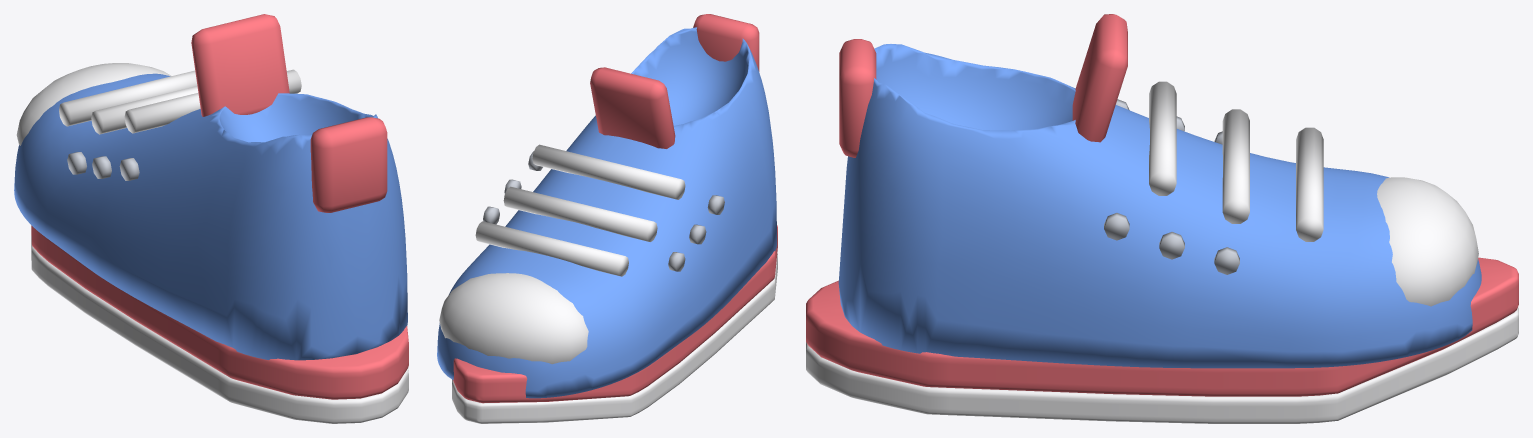
The model's file is shoe_canvas.fbx.
The picture shows the model from 3 angles, left to right: view 1: azimuth 30°, elevation 25°; view 2: azimuth 150°, elevation 25°; view 3: azimuth 270°, elevation 25°; orthographic projection. The views are drawn at different scales.
Visible parts, largest first — view 1: shoe_canvas; view 2: shoe_canvas; view 3: shoe_canvas.
Boxes of the visible parts, <box> form: shoe_canvas: <box>14,14,408,423</box>; shoe_canvas: <box>437,14,777,423</box>; shoe_canvas: <box>806,14,1518,423</box>.
Bounding box in the file's own units: 1.57 × 2.02 × 3.88.
1 material, 1 textured.
